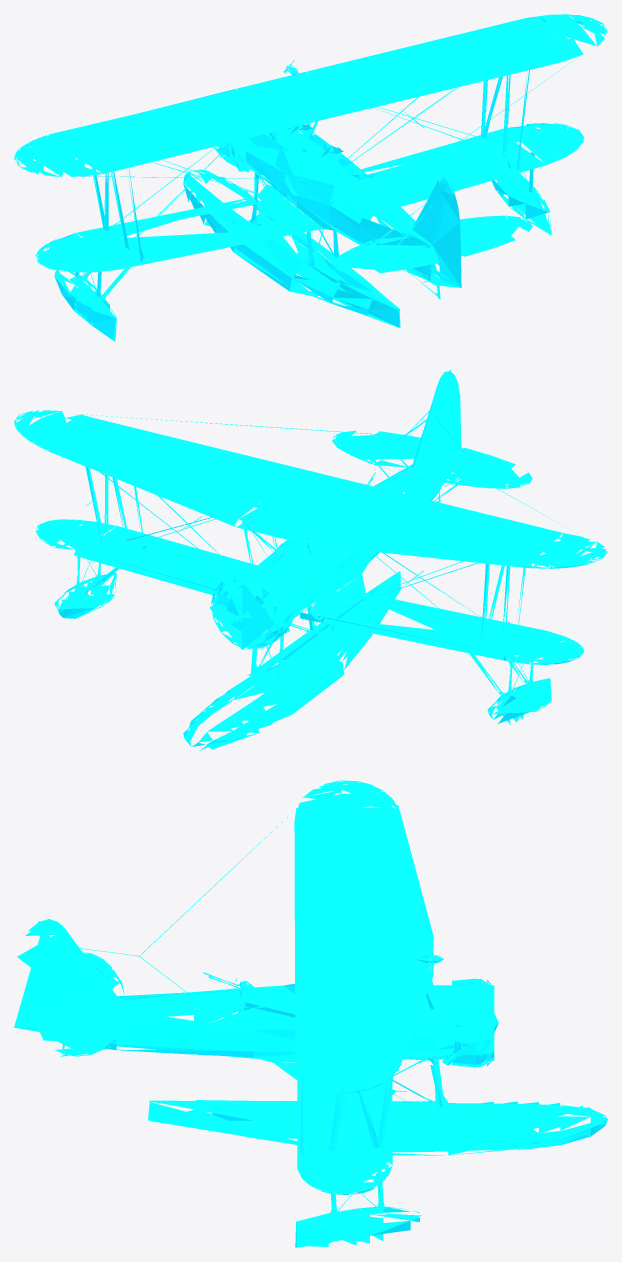
The model's file is PJAS009.glb.
3 renders of one model, top to bottom at view 1: azimuth 30°, elevation 25°; view 2: azimuth 150°, elevation 25°; view 3: azimuth 270°, elevation 25°, orthographic. The views are drawn at different scales.
Visible parts, largest first — view 1: misc; view 2: misc; view 3: misc.
Boxes of the visible parts, x1,y1,x2,y2 form: misc: (14, 14, 607, 341); misc: (14, 370, 607, 750); misc: (14, 780, 607, 1247).
Size of the model in its own units: 0.7315 by 0.256 by 0.5873.
